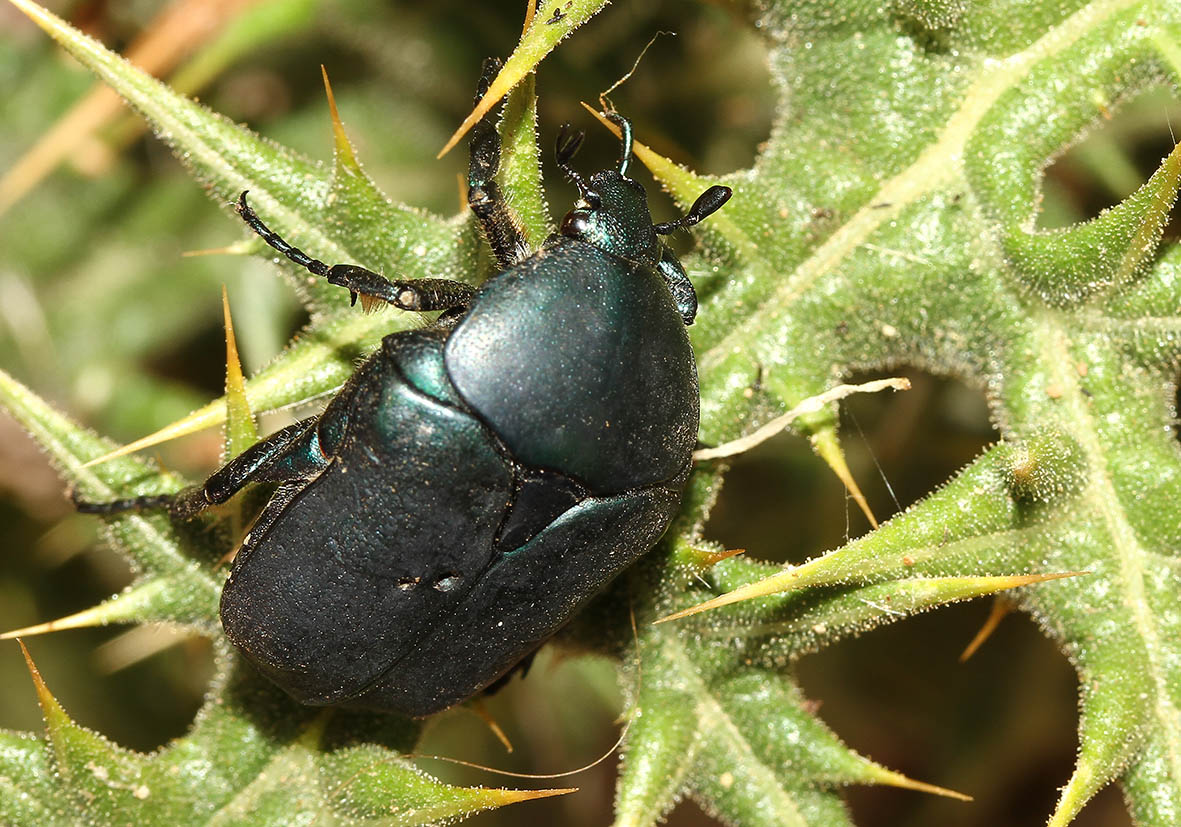Protaetia_vidua: (59, 85, 758, 735)
